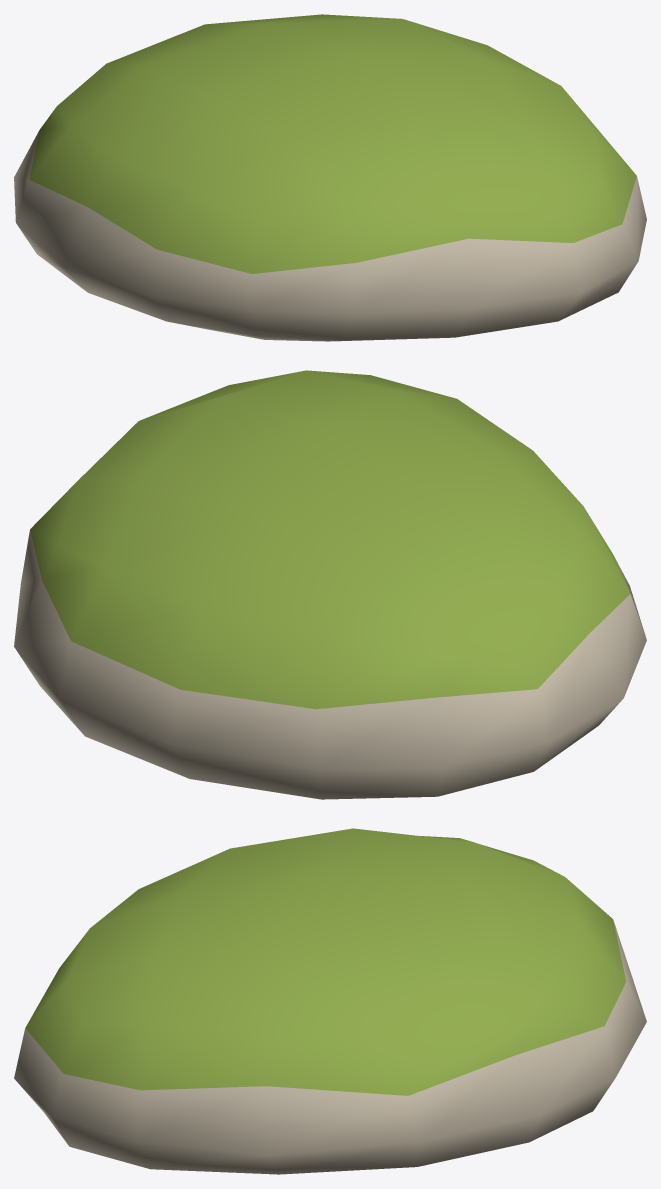
Rendered from itch_assetquest_pond_pebble_2c_moss.glb.
The picture shows the model from 3 angles, top to bottom: view 1: azimuth 30°, elevation 25°; view 2: azimuth 150°, elevation 25°; view 3: azimuth 270°, elevation 25°; orthographic projection. The views are drawn at different scales.
Parts seen in each view (by area): view 1: Pebble_2c_Moss; view 2: Pebble_2c_Moss; view 3: Pebble_2c_Moss.
Part boxes in pixels (<box>): Pebble_2c_Moss: <box>14,14,646,341</box>; Pebble_2c_Moss: <box>14,370,646,799</box>; Pebble_2c_Moss: <box>14,828,646,1174</box>.
Bounding box in the file's own units: 0.4076 × 0.1705 × 0.42.
